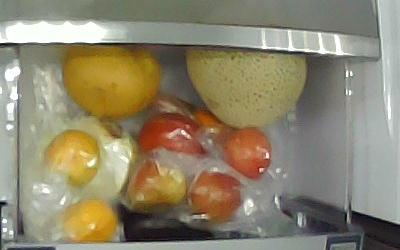melon: (184, 47, 306, 127)
pear: (60, 44, 161, 119)
prune_vinyl: (125, 151, 187, 212), (211, 125, 272, 180), (184, 168, 243, 223)
tangerine_vinyl: (42, 128, 101, 188), (54, 195, 117, 242)
tomato_vinyl: (136, 110, 207, 157)
